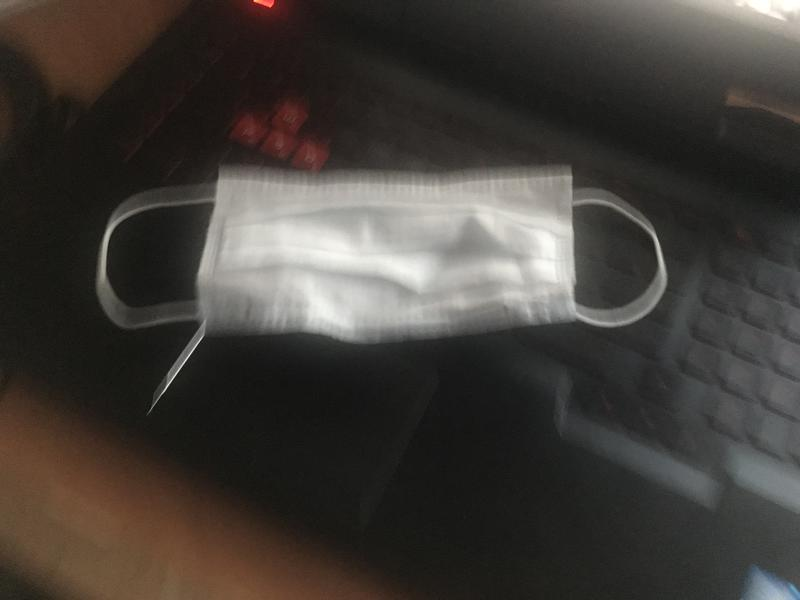medical_mask: (96, 166, 667, 342)
